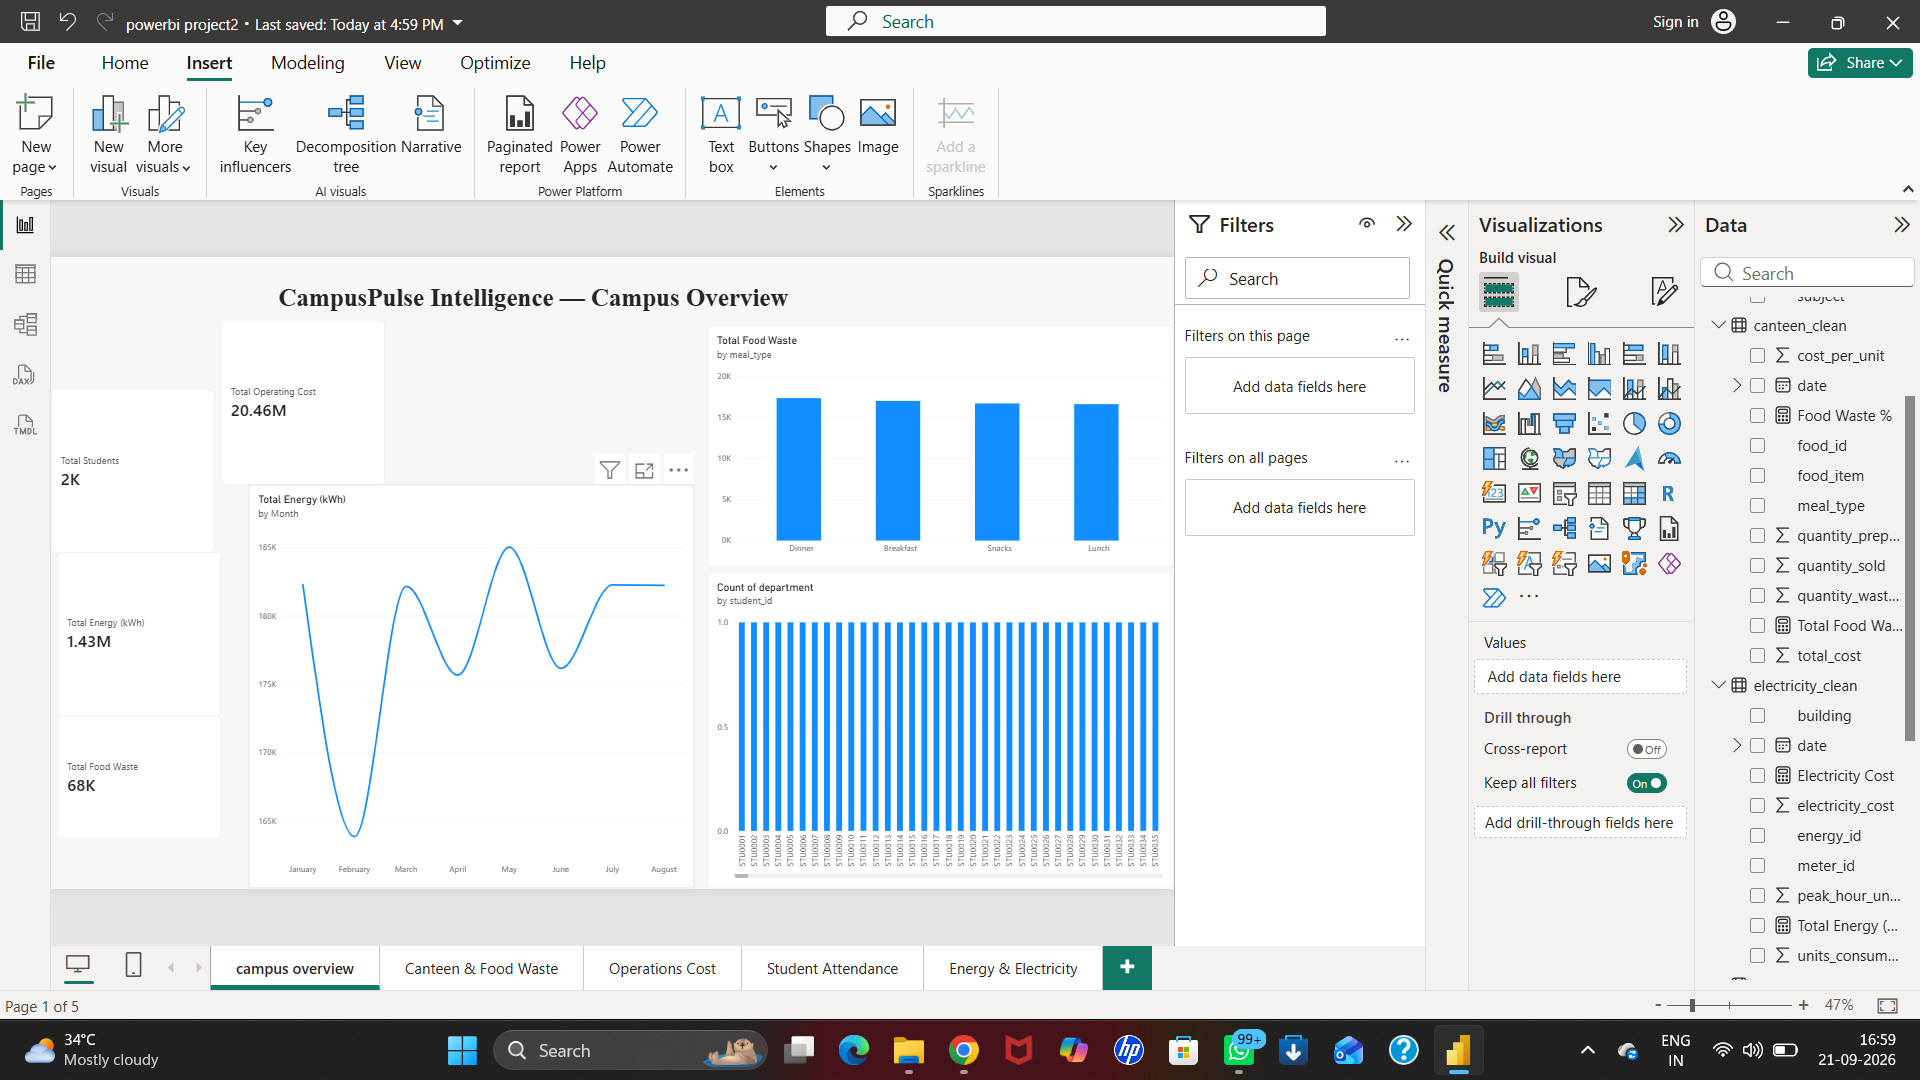

The page's visual inventory and layout, read from the dashboard file:
{"tool":"powerbi","page":{"name":"campus overview","canvas":[1920,1080],"ordinal":0},"visuals":[{"type":"cardVisual","fields":{"Data":["students_clean.Total Students"]},"box":[0,226.6,280,280],"z":0},{"type":"cardVisual","fields":{"Data":["electricity_clean.Total Energy (kWh)"]},"box":[10.7,504.6,280,280],"z":2},{"type":"cardVisual","fields":{"Data":["canteen_clean.Total Food Waste"]},"box":[10.7,784.7,280,210],"z":3},{"type":"cardVisual","fields":{"Data":["operating_costs_clean.Total Operating Cost"]},"box":[290.8,109,280,280],"z":4},{"type":"clusteredColumnChart","fields":{"Category":["canteen_clean.meal_type"],"Y":["canteen_clean.Total Food Waste"]},"box":[1122.5,117.6,797.5,412.7],"z":7},{"type":"clusteredColumnChart","fields":{"Y":["CountNonNull(students_clean.department)"],"Category":["students_clean.student_id"]},"box":[1122.5,538.8,797.5,540.9],"z":8},{"type":"lineChart","fields":{"Y":["electricity_clean.Total Energy (kWh)"],"Category":["electricity_clean.date.Variation.Date Hierarchy.Month"]},"box":[337.8,389.1,763.3,690.6],"z":9},{"type":"textbox","box":[389.1,44.9,913,72.7],"z":10}]}

Visuals, with their boxes on the page's 1920x1080 design canvas (x1, y1, x2, y2). These are canvas units, not pixel positions in the 1920x1080 screenshot, which may show the page scaled, cropped or inside an application window:
cardVisual - students_clean.Total Students: detection(0, 227, 280, 507)
cardVisual - electricity_clean.Total Energy (kWh): detection(11, 505, 291, 785)
cardVisual - canteen_clean.Total Food Waste: detection(11, 785, 291, 995)
cardVisual - operating_costs_clean.Total Operating Cost: detection(291, 109, 571, 389)
clusteredColumnChart - canteen_clean.meal_type x canteen_clean.Total Food Waste: detection(1122, 118, 1920, 530)
clusteredColumnChart - CountNonNull(students_clean.department) x students_clean.student_id: detection(1122, 539, 1920, 1080)
lineChart - electricity_clean.Total Energy (kWh) x electricity_clean.date.Variation.Date Hierarchy.Month: detection(338, 389, 1101, 1080)
textbox: detection(389, 45, 1302, 118)
